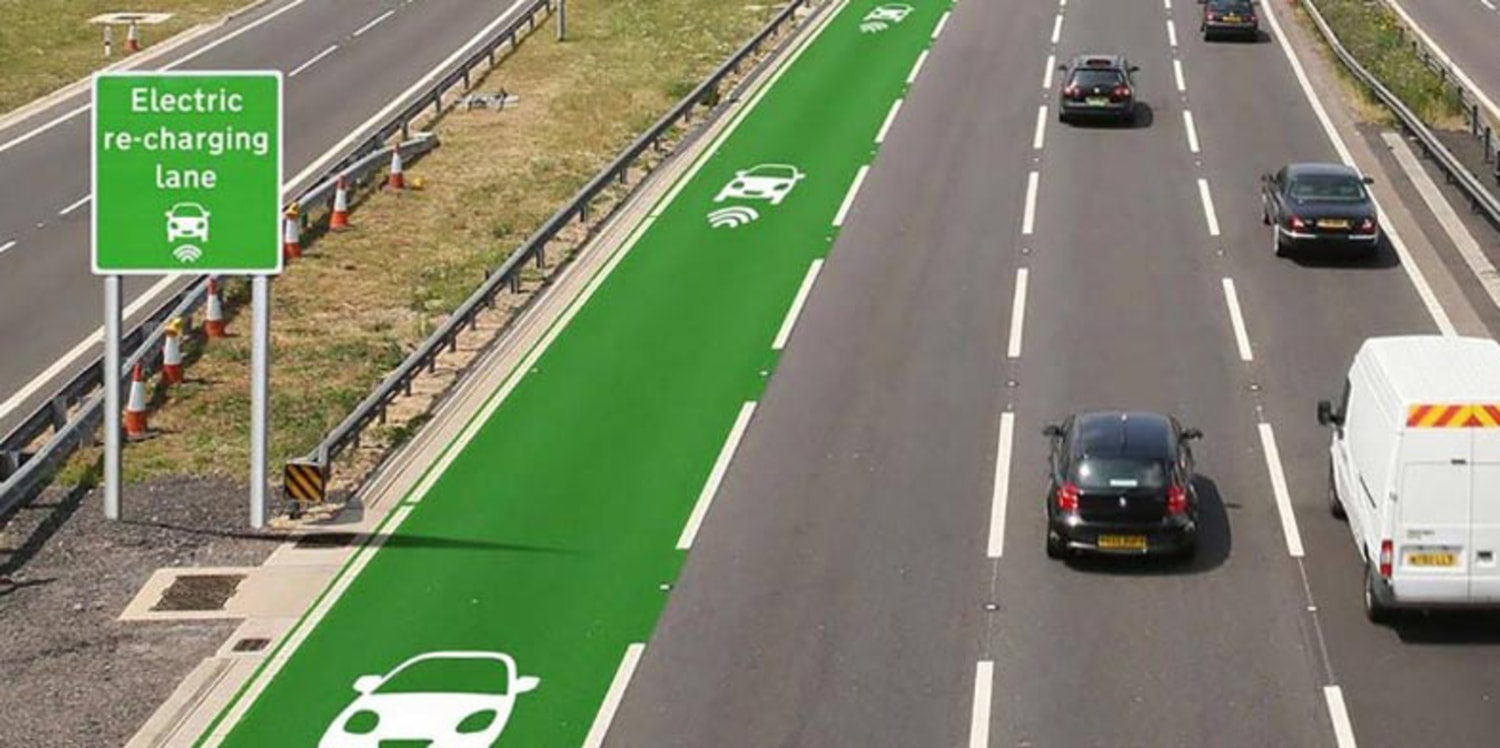car: (1331, 339, 1500, 623), (1044, 412, 1198, 567), (1261, 160, 1381, 262), (1058, 50, 1138, 120), (1203, 2, 1260, 42)
